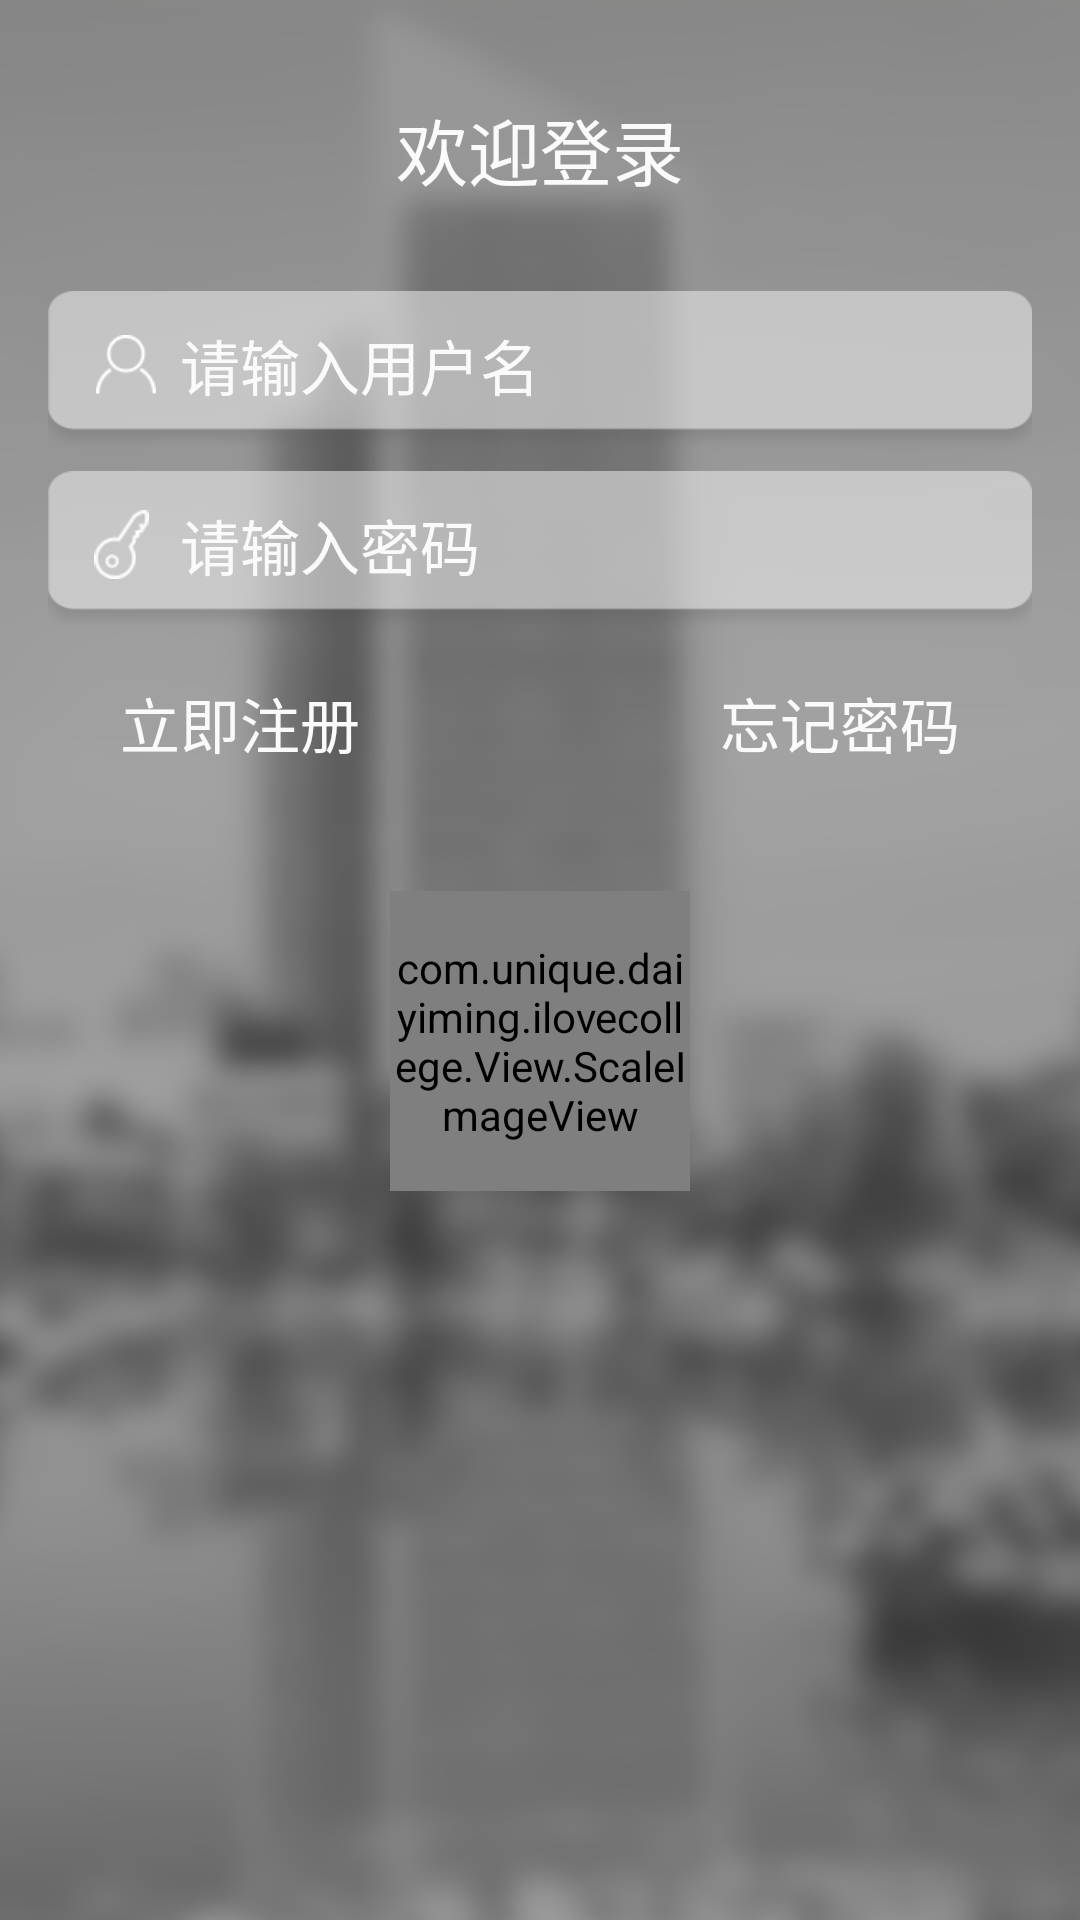

Named icons in this screenshot (1080*1920) and their centers, point (x, y):
password: point (121, 544)
user: point (126, 364)
